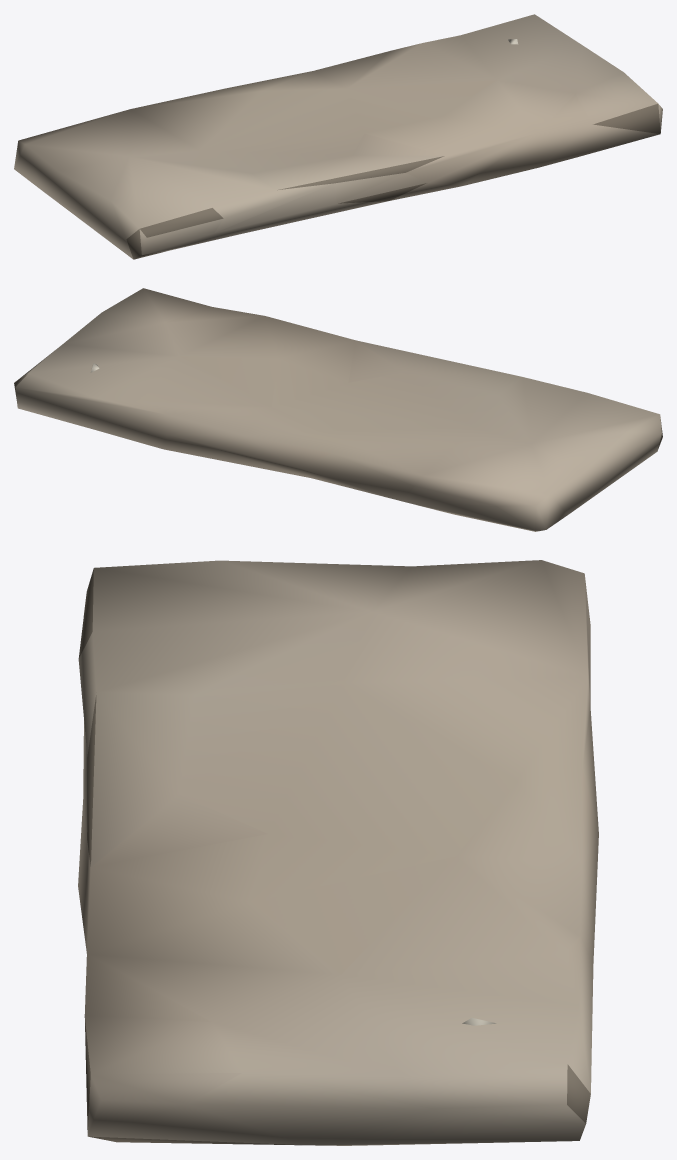
The model's file is shore_driftwood_plank_lod2.glb.
The picture shows the model from 3 angles, top to bottom: view 1: azimuth 30°, elevation 25°; view 2: azimuth 150°, elevation 25°; view 3: azimuth 270°, elevation 25°; orthographic projection. The views are drawn at different scales.
Parts seen in each view (by area): view 1: shore_driftwood_plank.001; view 2: shore_driftwood_plank.001; view 3: shore_driftwood_plank.001.
Boxes of the visible parts, box(x1,y1,x2,y2) form: shore_driftwood_plank.001: box(14, 14, 662, 259); shore_driftwood_plank.001: box(14, 288, 662, 531); shore_driftwood_plank.001: box(78, 560, 598, 1145).
Size of the model in its own units: 12.14 by 0.9783 by 5.12.
